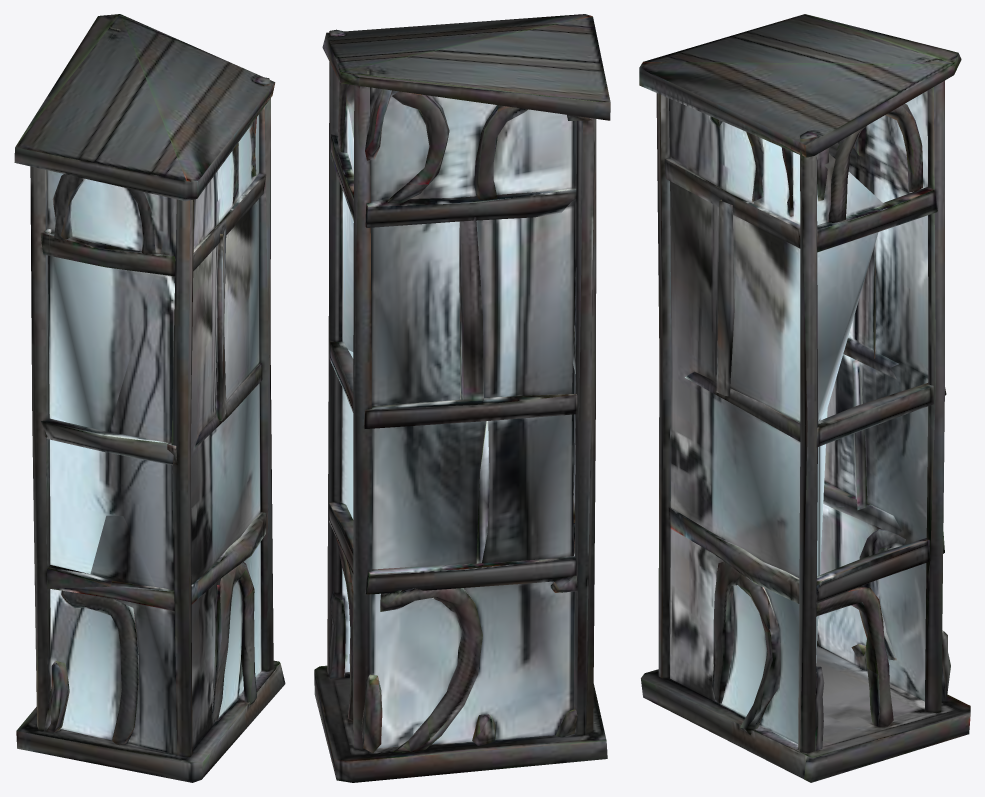
File: jd_coluna_vidro.glb
3 renders of one model, left to right at view 1: azimuth 30°, elevation 25°; view 2: azimuth 150°, elevation 25°; view 3: azimuth 270°, elevation 25°, orthographic. The views are drawn at different scales.
Visible parts, largest first — view 1: mesh_node.011; view 2: mesh_node.011; view 3: mesh_node.011.
Part boxes in pixels (x1,y1,x2,y2): mesh_node.011: (14,14,285,782); mesh_node.011: (314,14,610,782); mesh_node.011: (639,14,970,782).
Bounding box in the file's own units: 0.2104 × 0.4805 × 0.2144.
1 material, 1 textured.
